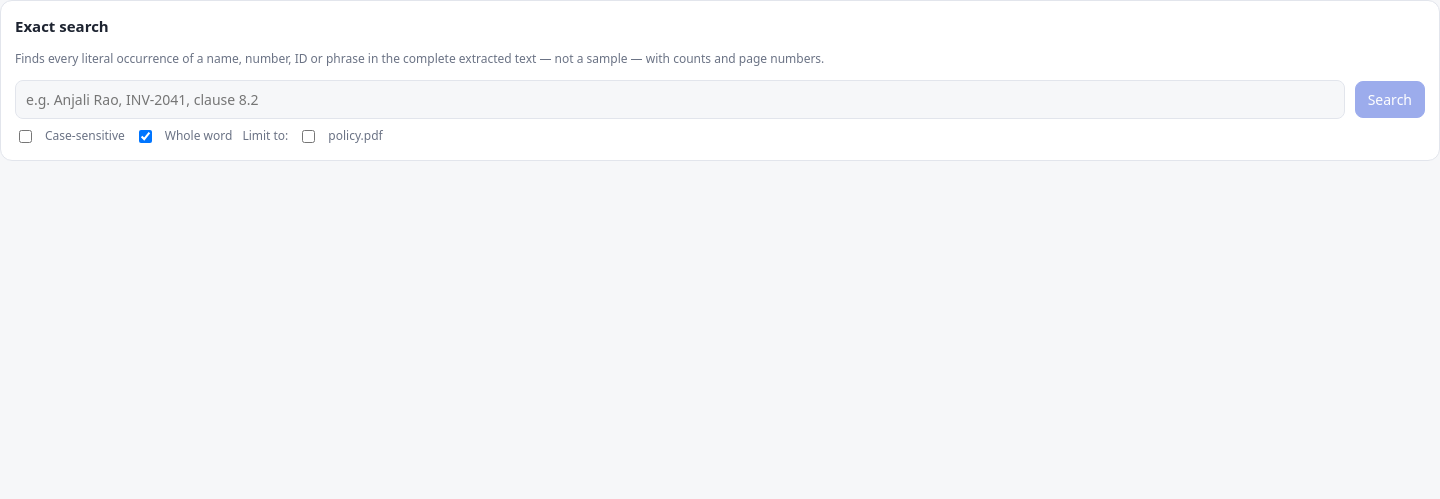
it: Exact search › shows counts per document, clickable pages, matches and pagination
The image size is (1440, 499).
Type "Anjali Rao" into the field named "Search term" at (680, 99), box left=15, top=80, right=1345, bottom=118
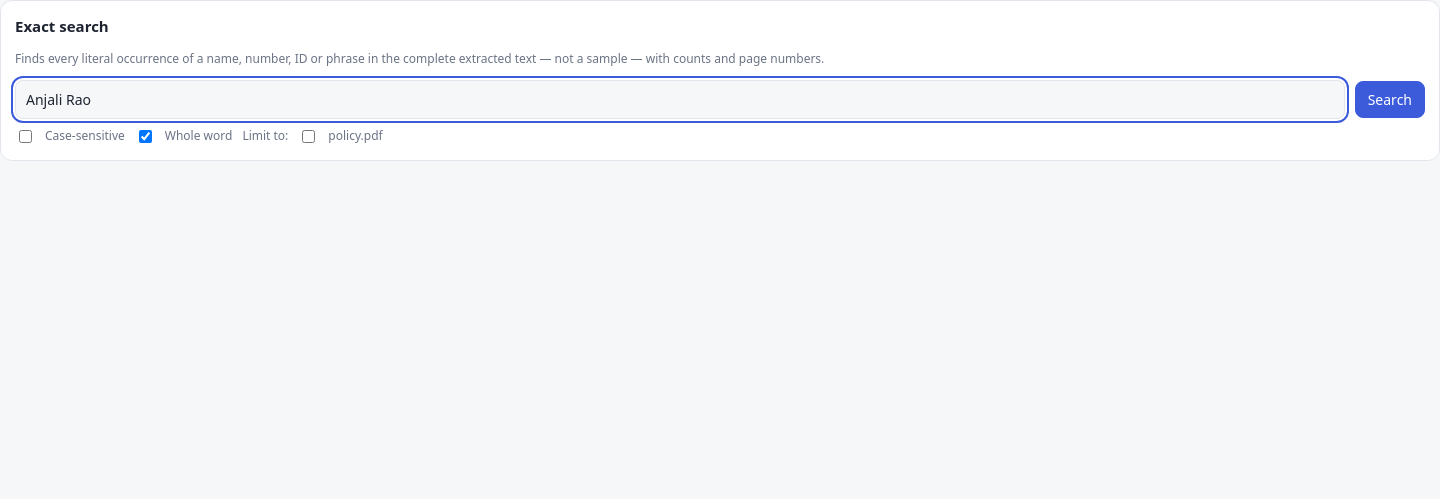
Click the button "Search" at (1390, 99), box left=1355, top=80, right=1425, bottom=118
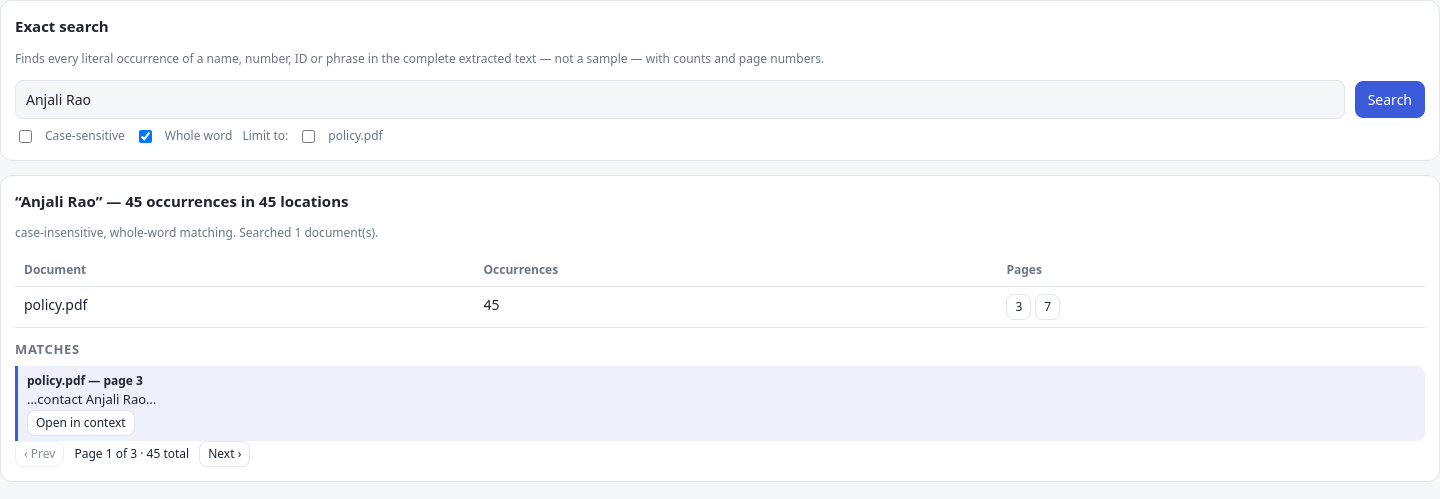
Result: the heading "“Anjali Rao” — 45 occurrences in 45 locations" is shown at left=15, top=190, right=348, bottom=210
Result: the button named "Open page 7 of policy.pdf" is shown at left=1035, top=294, right=1060, bottom=320
Result: the text "policy.pdf — page 3" is shown at left=27, top=372, right=143, bottom=388
Click the button "Next ›" at (225, 454), box left=199, top=440, right=250, bottom=466
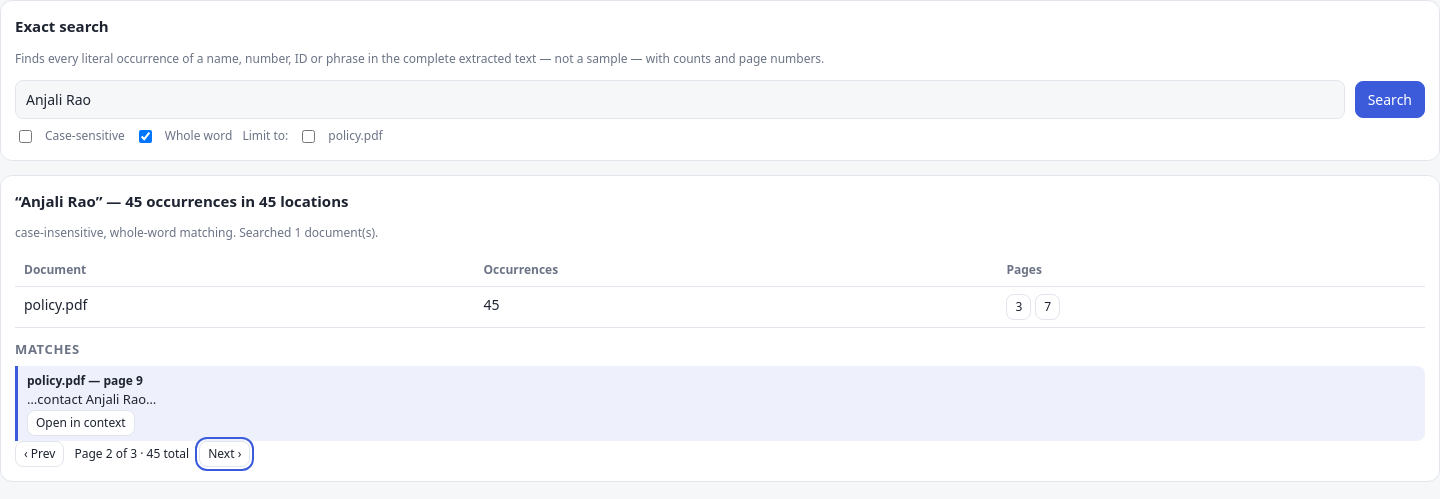
Result: the text "policy.pdf — page 9" is shown at left=27, top=372, right=143, bottom=388
